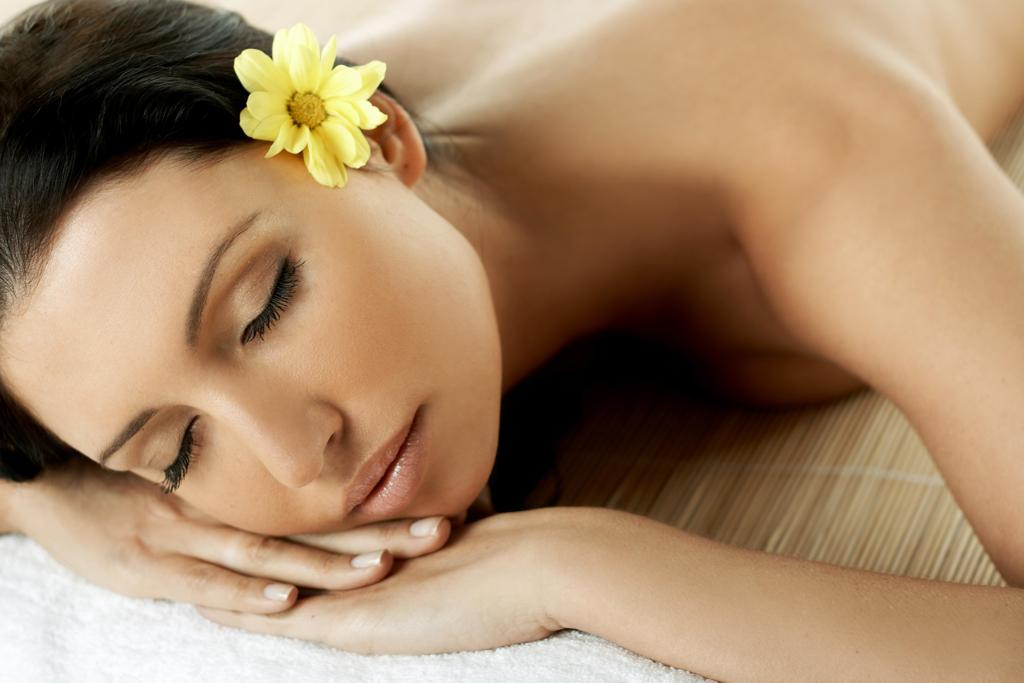face: (38, 196, 480, 524)
